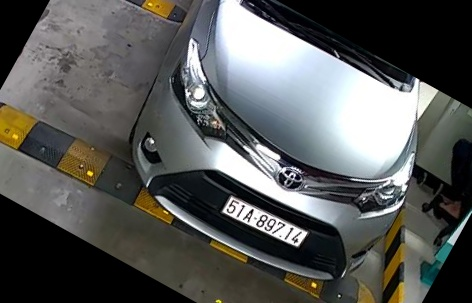plate: (220, 189, 316, 251)
